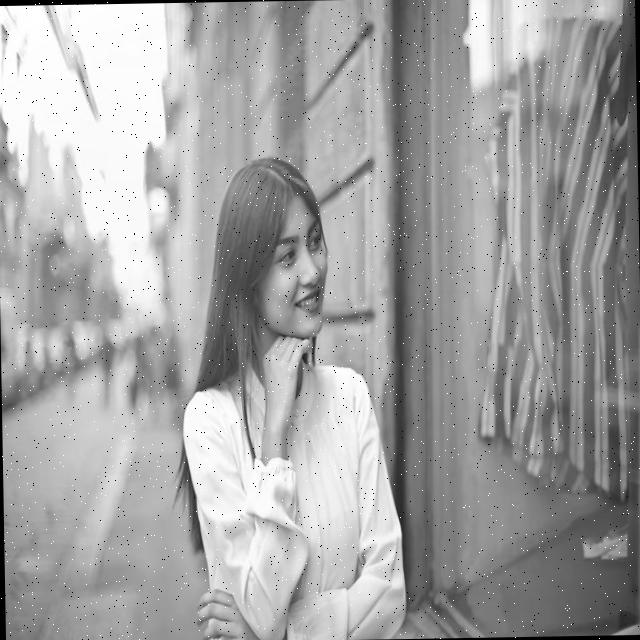Happiness: (256, 192, 337, 342)
